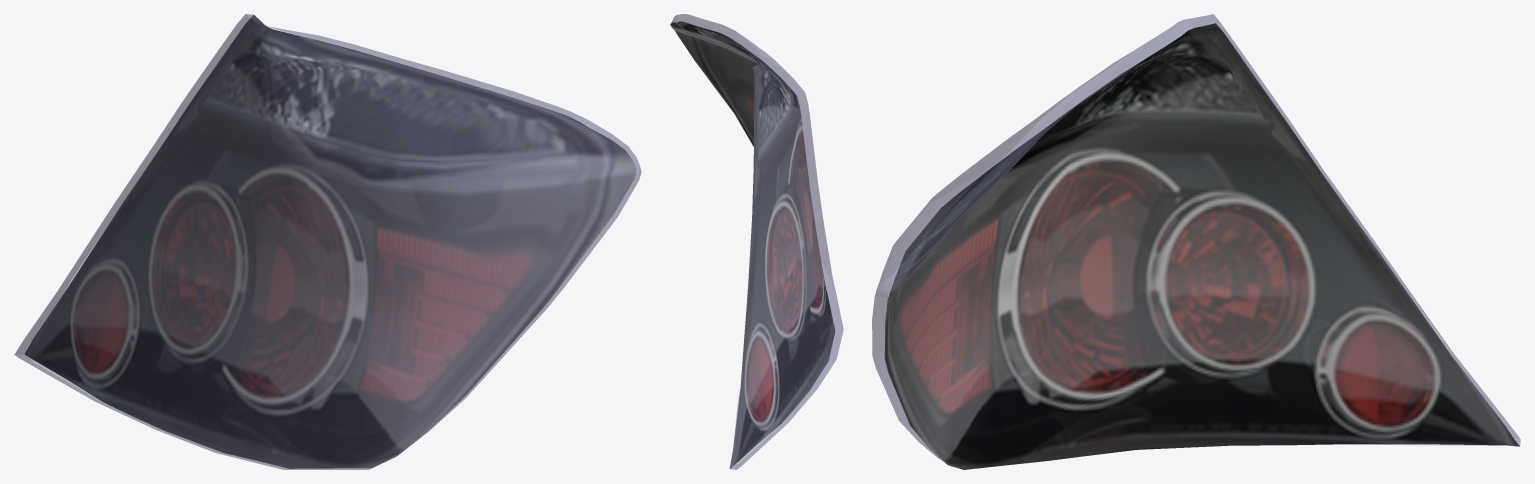
The picture shows the model from 3 angles, left to right: view 1: azimuth 30°, elevation 25°; view 2: azimuth 150°, elevation 25°; view 3: azimuth 270°, elevation 25°; orthographic projection. The views are drawn at different scales.
Visible parts, largest first — view 1: SC30_541C_R_SC30_541C_R_2_DTaSI, SC30_541C_R_1_N_SC30_541C_R; view 2: SC30_541C_R_1_N_SC30_541C_R, SC30_541C_R_SC30_541C_R_2_DTaSI; view 3: SC30_541C_R_1_N_SC30_541C_R, SC30_541C_R_SC30_541C_R_2_DTaSI.
Part boxes in pixels (x1=…): SC30_541C_R_SC30_541C_R_2_DTaSI: x1=14, y1=14, x2=641, y2=469; SC30_541C_R_1_N_SC30_541C_R: x1=25, y1=15, x2=636, y2=468; SC30_541C_R_1_N_SC30_541C_R: x1=670, y1=21, x2=835, y2=468; SC30_541C_R_SC30_541C_R_2_DTaSI: x1=671, y1=14, x2=843, y2=469; SC30_541C_R_1_N_SC30_541C_R: x1=884, y1=23, x2=1519, y2=469; SC30_541C_R_SC30_541C_R_2_DTaSI: x1=872, y1=14, x2=1520, y2=466.
Size of the model in its own units: 27.25 by 30.57 by 37.14.
